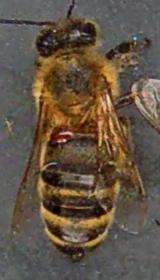varroa_mite: (48, 125, 78, 146)
